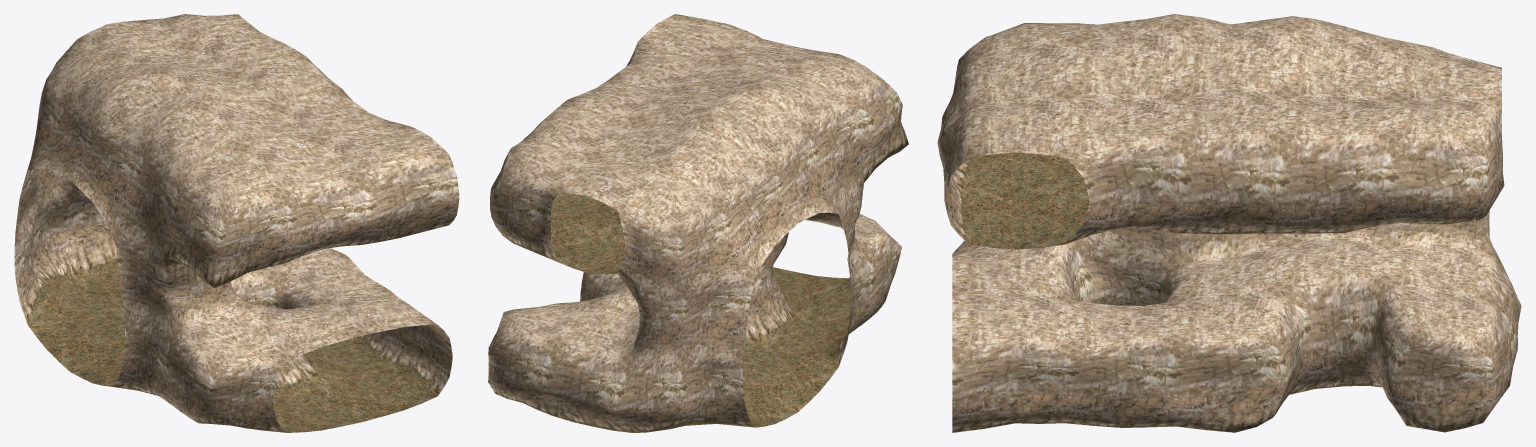
The model's file is thm_all_cave_s03_r5_mesh_r5.fbx.
The picture shows the model from 3 angles, left to right: view 1: azimuth 30°, elevation 25°; view 2: azimuth 150°, elevation 25°; view 3: azimuth 270°, elevation 25°; orthographic projection. The views are drawn at different scales.
Parts seen in each view (by area): view 1: mesh_node; view 2: mesh_node; view 3: mesh_node.
Part boxes in pixels (x1,y1,x2,y2): mesh_node: [14, 14, 459, 432]; mesh_node: [488, 14, 908, 432]; mesh_node: [937, 14, 1521, 432].
Bounding box in the file's own units: 26.95 × 28.15 × 43.27.
